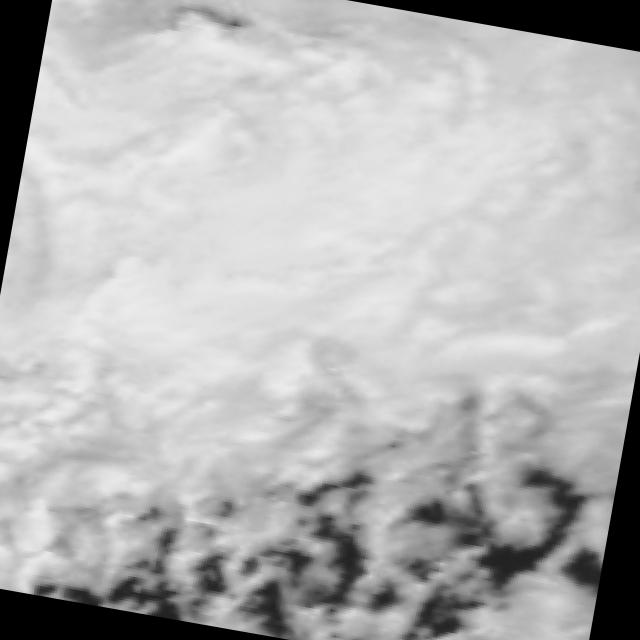CB: (68, 36, 470, 352)
